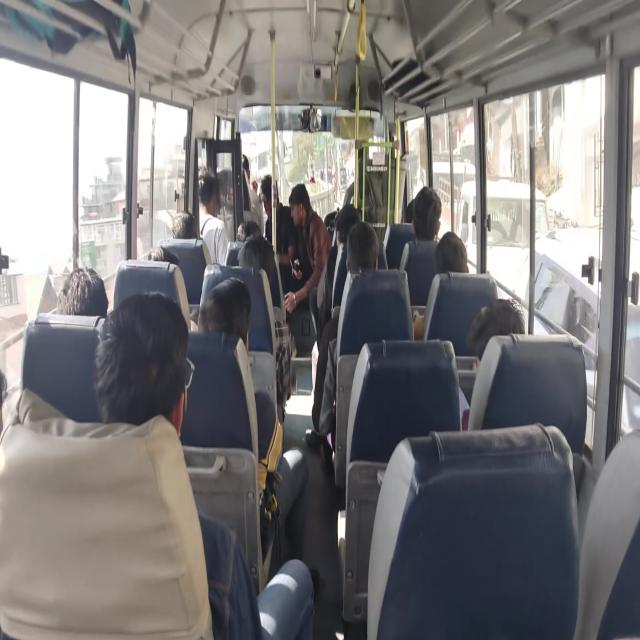person: (92, 291, 192, 444), (465, 300, 537, 369), (199, 270, 255, 354), (54, 259, 111, 323), (340, 218, 379, 277), (237, 225, 276, 282), (435, 227, 472, 276), (410, 184, 442, 239), (328, 200, 362, 251), (192, 162, 218, 226), (144, 237, 182, 270), (286, 182, 312, 230), (170, 209, 202, 246), (256, 177, 283, 218), (353, 131, 376, 170), (236, 205, 261, 239), (235, 152, 260, 185), (402, 192, 418, 225)
